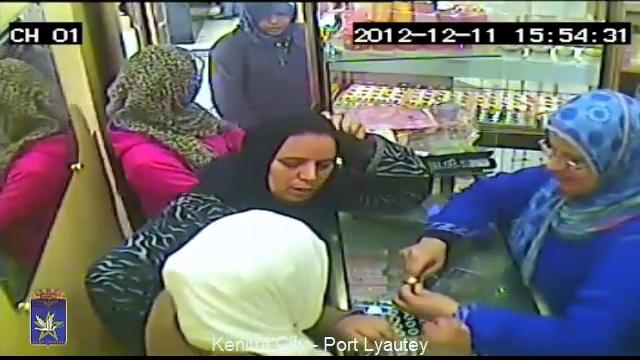Customer-Bagpack: (364, 134, 430, 217)
Product: (404, 267, 426, 292)
Product-Picked: (417, 92, 640, 360)
Regular: (121, 209, 401, 360), (109, 22, 241, 173), (247, 109, 378, 231), (224, 0, 323, 106)
